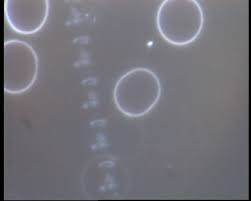Malaria: (106, 66, 166, 122), (152, 1, 211, 49), (1, 41, 40, 96), (1, 2, 50, 34)
